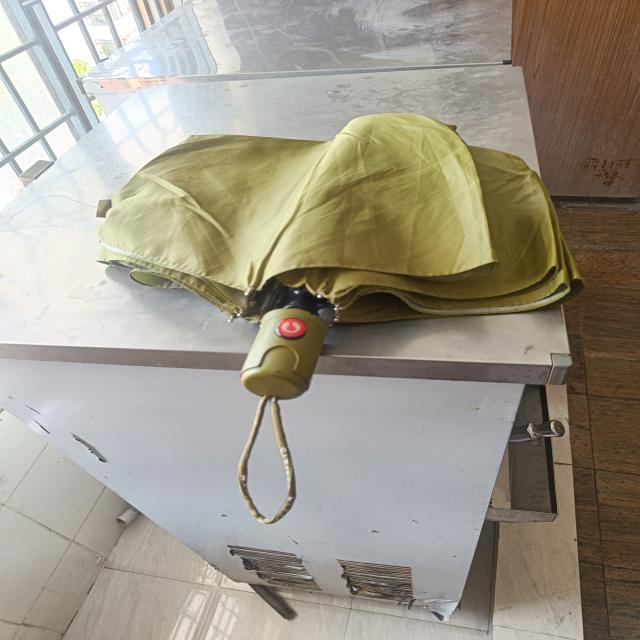umbrella: (102, 114, 583, 409)
